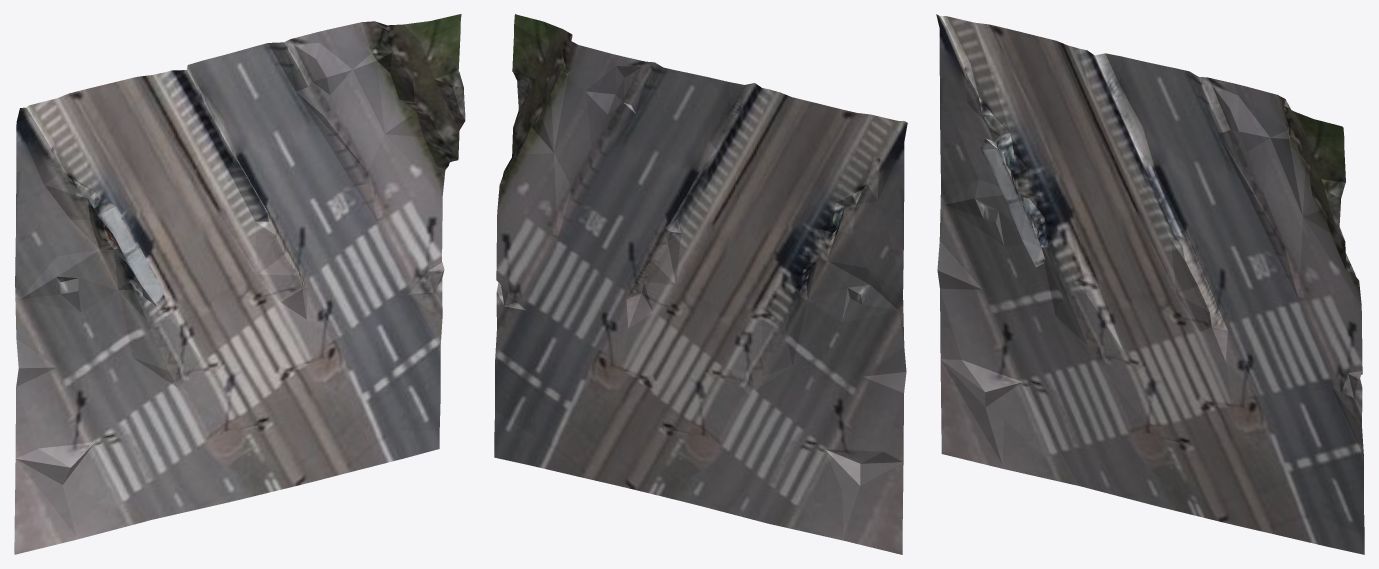
Rendered from Tile_+032_+023_L19_000002.obj.
3 renders of one model, left to right at view 1: azimuth 30°, elevation 25°; view 2: azimuth 150°, elevation 25°; view 3: azimuth 330°, elevation 25°, orthographic. The views are drawn at different scales.
Bounding box in the file's own units: 31.5 × 31.75 × 3.33.
1 material, 1 textured.
